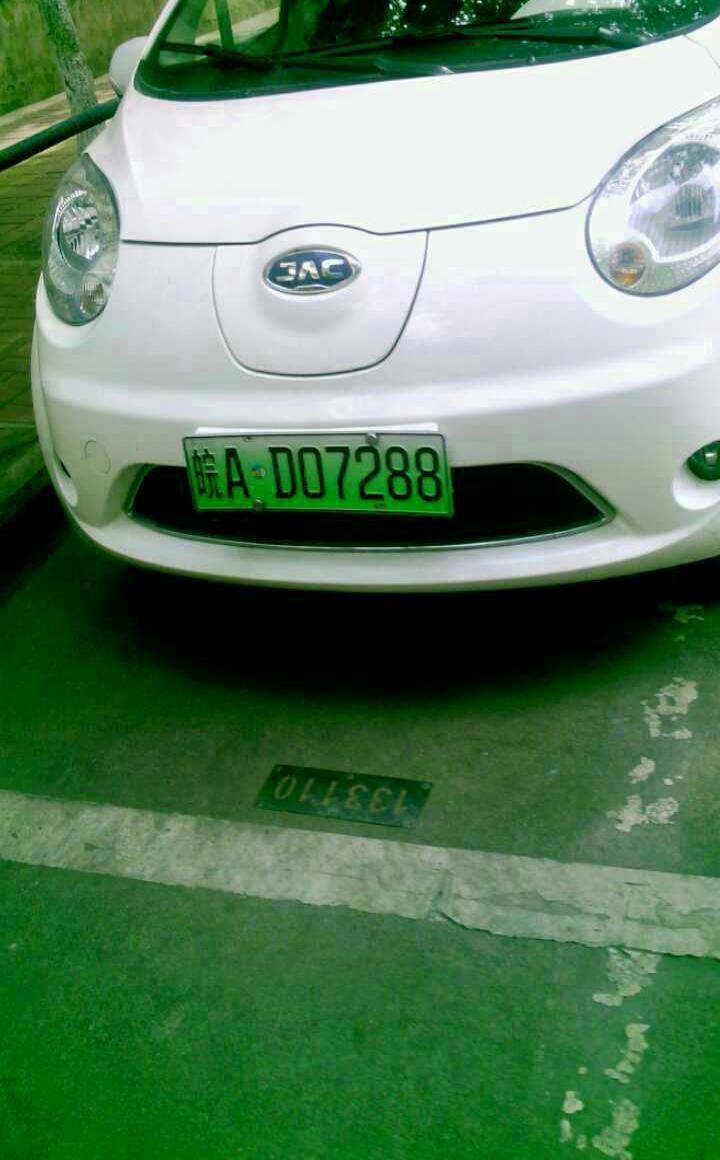car: (170, 427, 460, 523)
